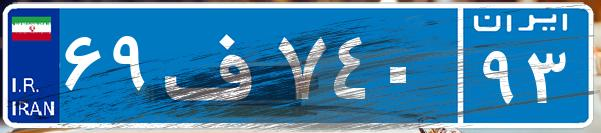0: (385, 28, 445, 110)
3: (525, 38, 570, 115)
4: (330, 28, 385, 110)
6: (57, 26, 110, 107)
7: (273, 28, 330, 110)
9: (475, 38, 525, 113), (110, 28, 158, 105)
ف: (158, 15, 273, 115)
